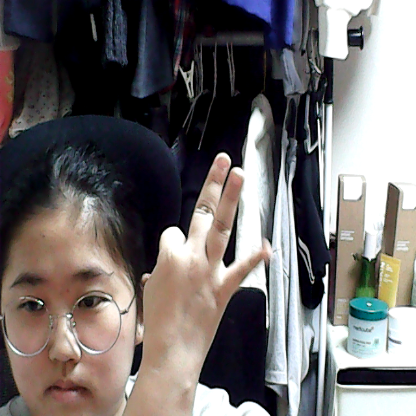Finger_3: (136, 140, 280, 368)
